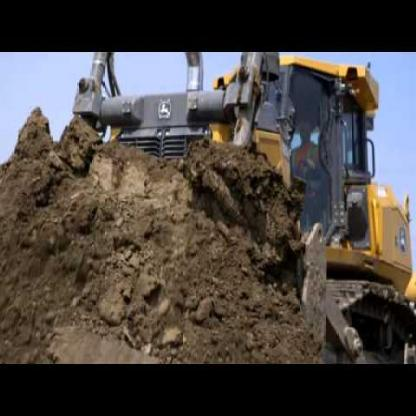bull_dozer/loader/grader: (56, 54, 412, 363)
